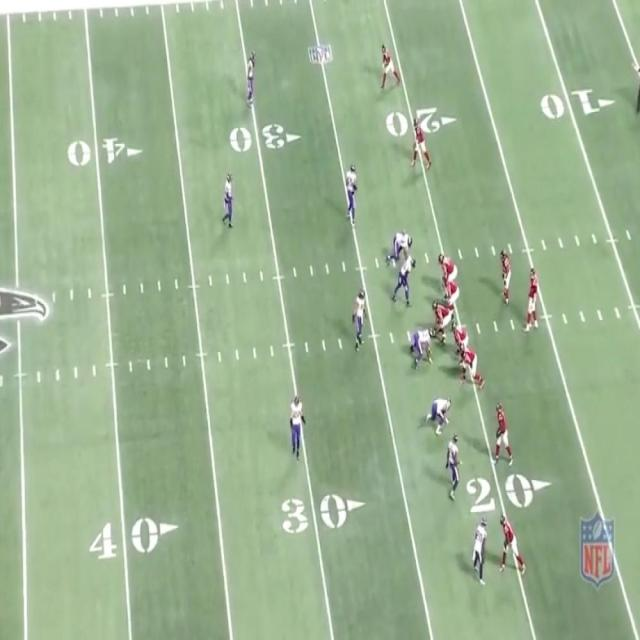center: (432, 301, 451, 338)
db: (288, 395, 308, 456), (449, 433, 462, 500), (474, 517, 487, 584), (220, 172, 236, 226), (241, 53, 256, 110)
lb: (345, 162, 358, 222), (356, 290, 369, 350)
qb: (528, 266, 540, 331)
